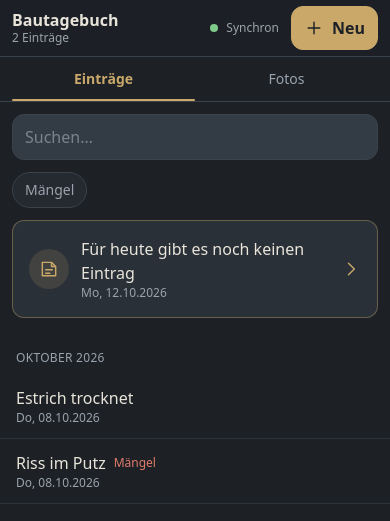
Scenario: diary list › filters to the entries marked with defects and back
The image size is (390, 521).
Check: the text "Estrich trocknet" is shown, box left=16, top=386, right=134, bottom=410
What coordinates should you click on to do the following:
click the button "Mängel"
I would click on:
 (50, 190)
Its box is left=12, top=172, right=87, bottom=208.
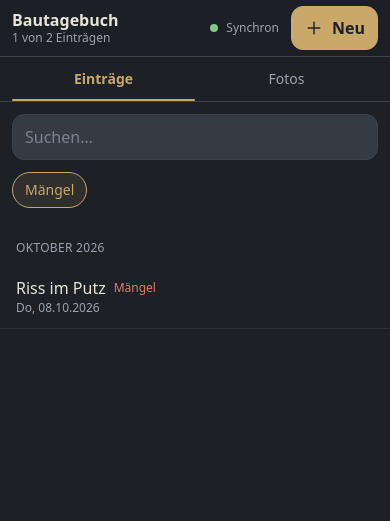
Check: the text "Riss im Putz" is shown, box left=16, top=276, right=106, bottom=300
Check: the link "Estrich trocknet" is gone
What coordinates should you click on to do the following:
click the button "Mängel"
I would click on:
 (50, 190)
Its box is left=12, top=172, right=87, bottom=208.
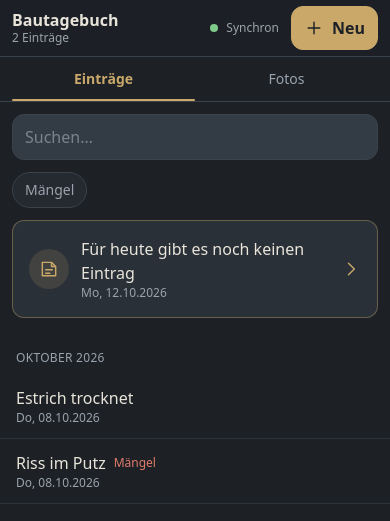
Check: the text "Estrich trocknet" is shown, box left=16, top=386, right=134, bottom=410
